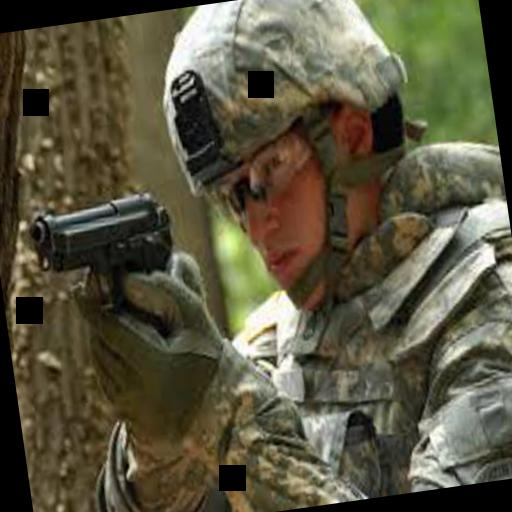Handgun: (20, 168, 186, 354)
